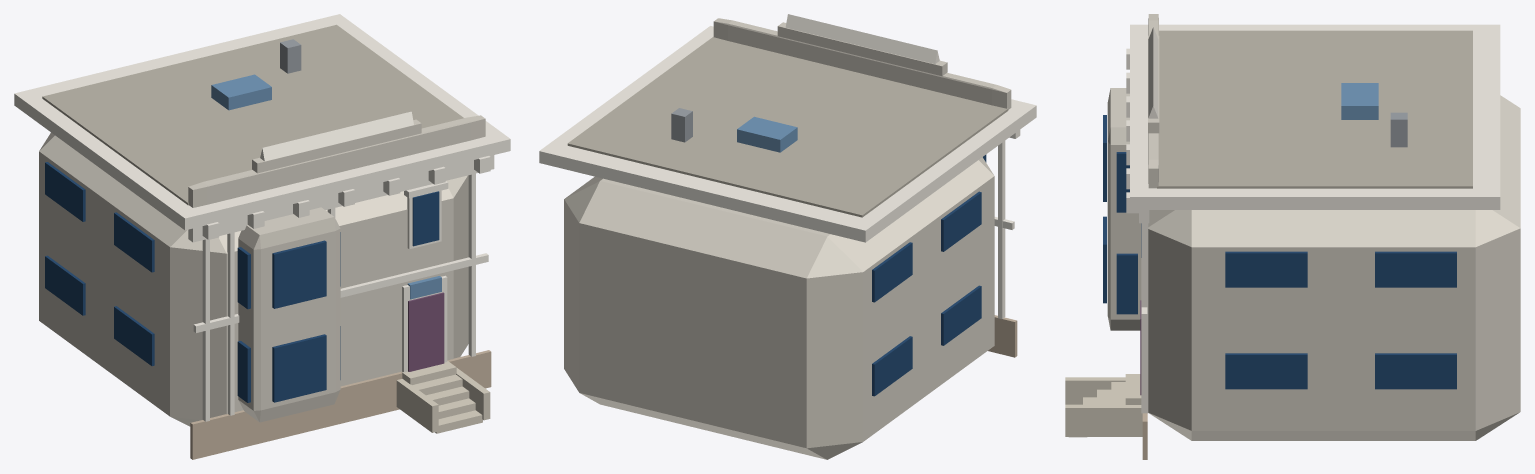
The model's file is stick_w11_false.glb.
3 views of the same model, side by side, from view 1: azimuth 30°, elevation 25°; view 2: azimuth 150°, elevation 25°; view 3: azimuth 270°, elevation 25° (orthographic). The views are drawn at different scales.
Parts seen in each view (by area): view 1: walls, roofslab, corn, bay, bsmt, fp, bw.001, bw, frieze, door, roof, fp2 (+23 smaller); view 2: walls, roofslab, corn, fp, roof, fp2, skylt, sb.002, sb.006, sb, sb.004, stick.003 (+2 smaller); view 3: walls, roofslab, corn, bay, sb.001, sb.005, sb.003, sb.007, cheek.001, stick.002, skylt, bws.001 (+6 smaller).
Boxes of the visible parts, x1,y1,x2,y2 form: walls: (39,132,468,426); roofslab: (42,24,463,205); corn: (14,14,510,230); bay: (238,207,340,422); bsmt: (190,350,491,459); fp: (188,115,485,207); bw.001: (272,240,326,308); bw: (272,334,326,402); frieze: (188,155,494,242); door: (408,292,444,371); roof: (260,111,413,161); fp2: (252,119,421,173); walls: (564,157,994,459); roofslab: (567,37,1008,217); corn: (539,26,1036,242); fp: (713,18,1011,109); roof: (785,14,939,63); fp2: (777,22,947,75); skylt: (737,116,797,152); sb.002: (872,336,912,396); sb.006: (872,242,912,302); sb: (941,285,981,345); sb.004: (941,191,981,251); stick.003: (998,141,1005,318); walls: (1148,95,1520,440); roofslab: (1157,30,1472,188); corn: (1130,24,1500,209); bay: (1107,88,1141,330); sb.001: (1225,353,1307,389); sb.005: (1225,251,1307,287); sb.003: (1375,353,1456,389); sb.007: (1375,251,1456,287); cheek.001: (1065,404,1142,436); stick.002: (1141,223,1148,413); skylt: (1341,83,1378,119); bws.001: (1116,253,1137,314).
Bounding box in the file's own units: 12 × 10.22 × 13.4.
